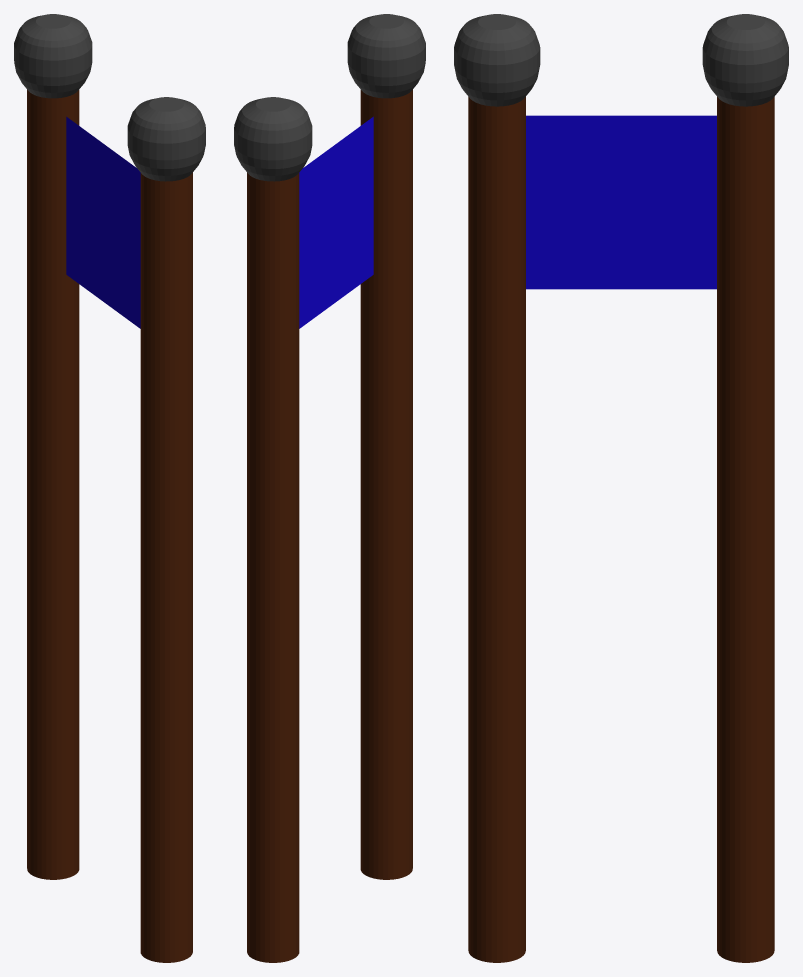
Rendered from Gate_B.fbx.
3 views of the same model, side by side, from view 1: azimuth 30°, elevation 25°; view 2: azimuth 150°, elevation 25°; view 3: azimuth 270°, elevation 25° (orthographic). The views are drawn at different scales.
Parts seen in each view (by area): view 1: Gate_B; view 2: Gate_B; view 3: Gate_B.
Boxes of the visible parts, box(x1,y1,x2,y2) form: Gate_B: box(14, 14, 205, 962); Gate_B: box(234, 14, 425, 962); Gate_B: box(454, 14, 788, 962).
Size of the model in its own units: 90 by 1071 by 350.
